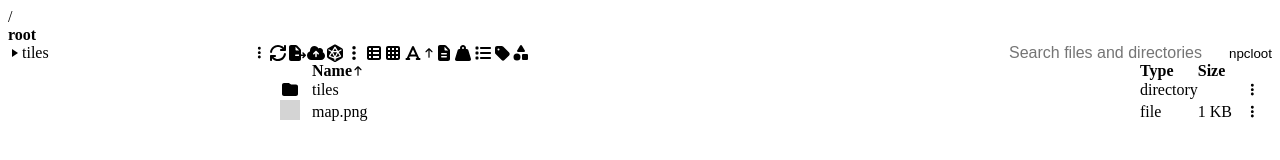
Test: FileBrowser › moves an entry when dropped onto a breadcrumb
Click the button "tiles" in the row of "directory": click(325, 90) [312,81,339,99]
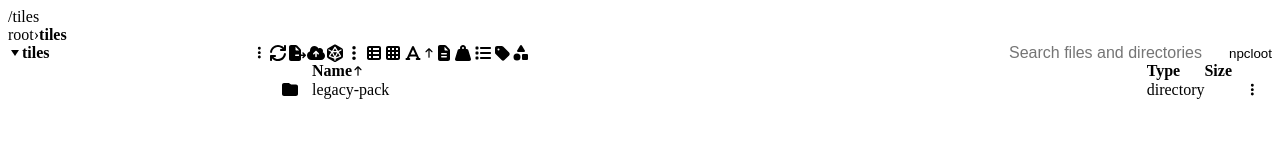
Click the button "legacy-pack": click(351, 90) [312,81,389,99]
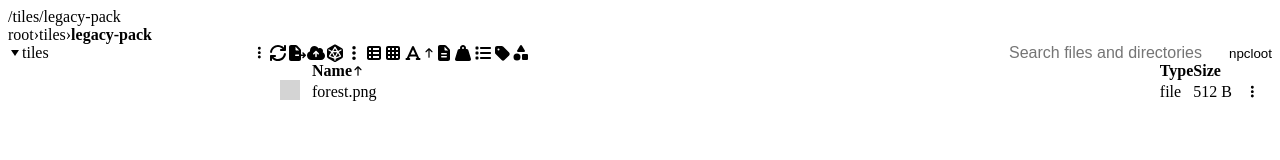
Result: the text "forest.png" is shown at [312,83,376,100]
